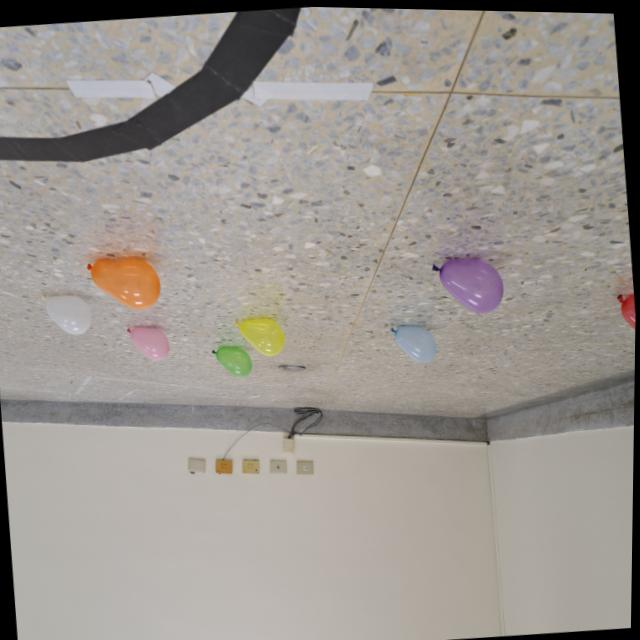other: (84, 252, 164, 314), (430, 252, 505, 316), (41, 287, 94, 339), (232, 312, 289, 359), (389, 319, 438, 366), (126, 323, 170, 362), (212, 343, 256, 380)
red: (615, 287, 637, 336)
